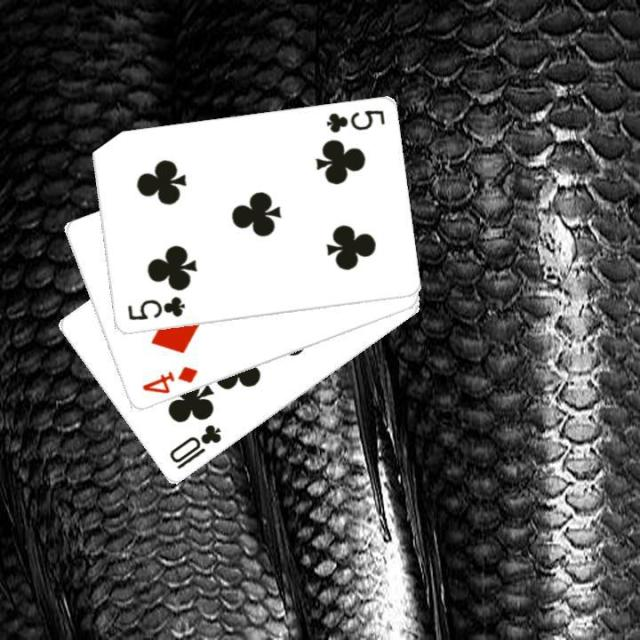10C: (164, 420, 224, 472)
4D: (138, 362, 199, 397)
5C: (321, 106, 386, 135), (124, 292, 186, 322)
